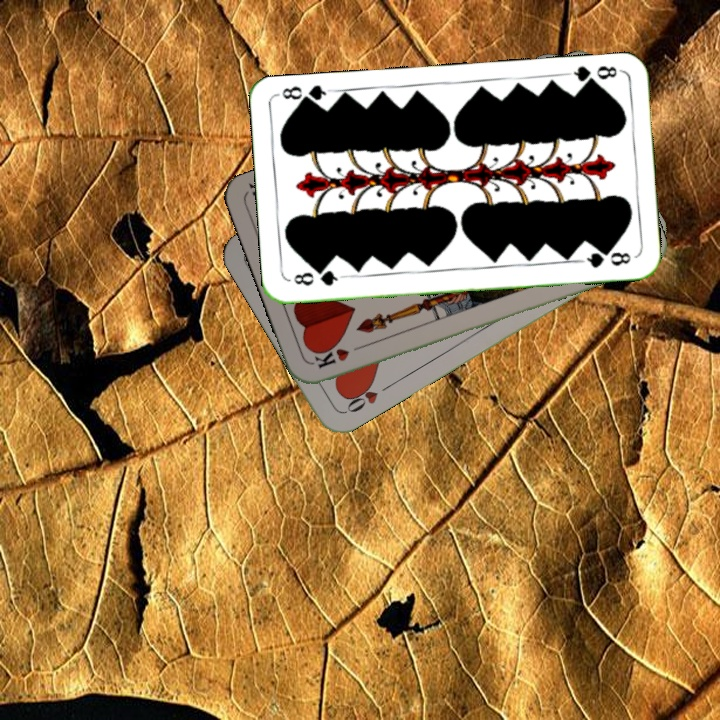G8: (563, 62, 622, 89), (289, 266, 346, 289)
HK: (310, 340, 369, 371)
HO: (341, 377, 395, 416)
